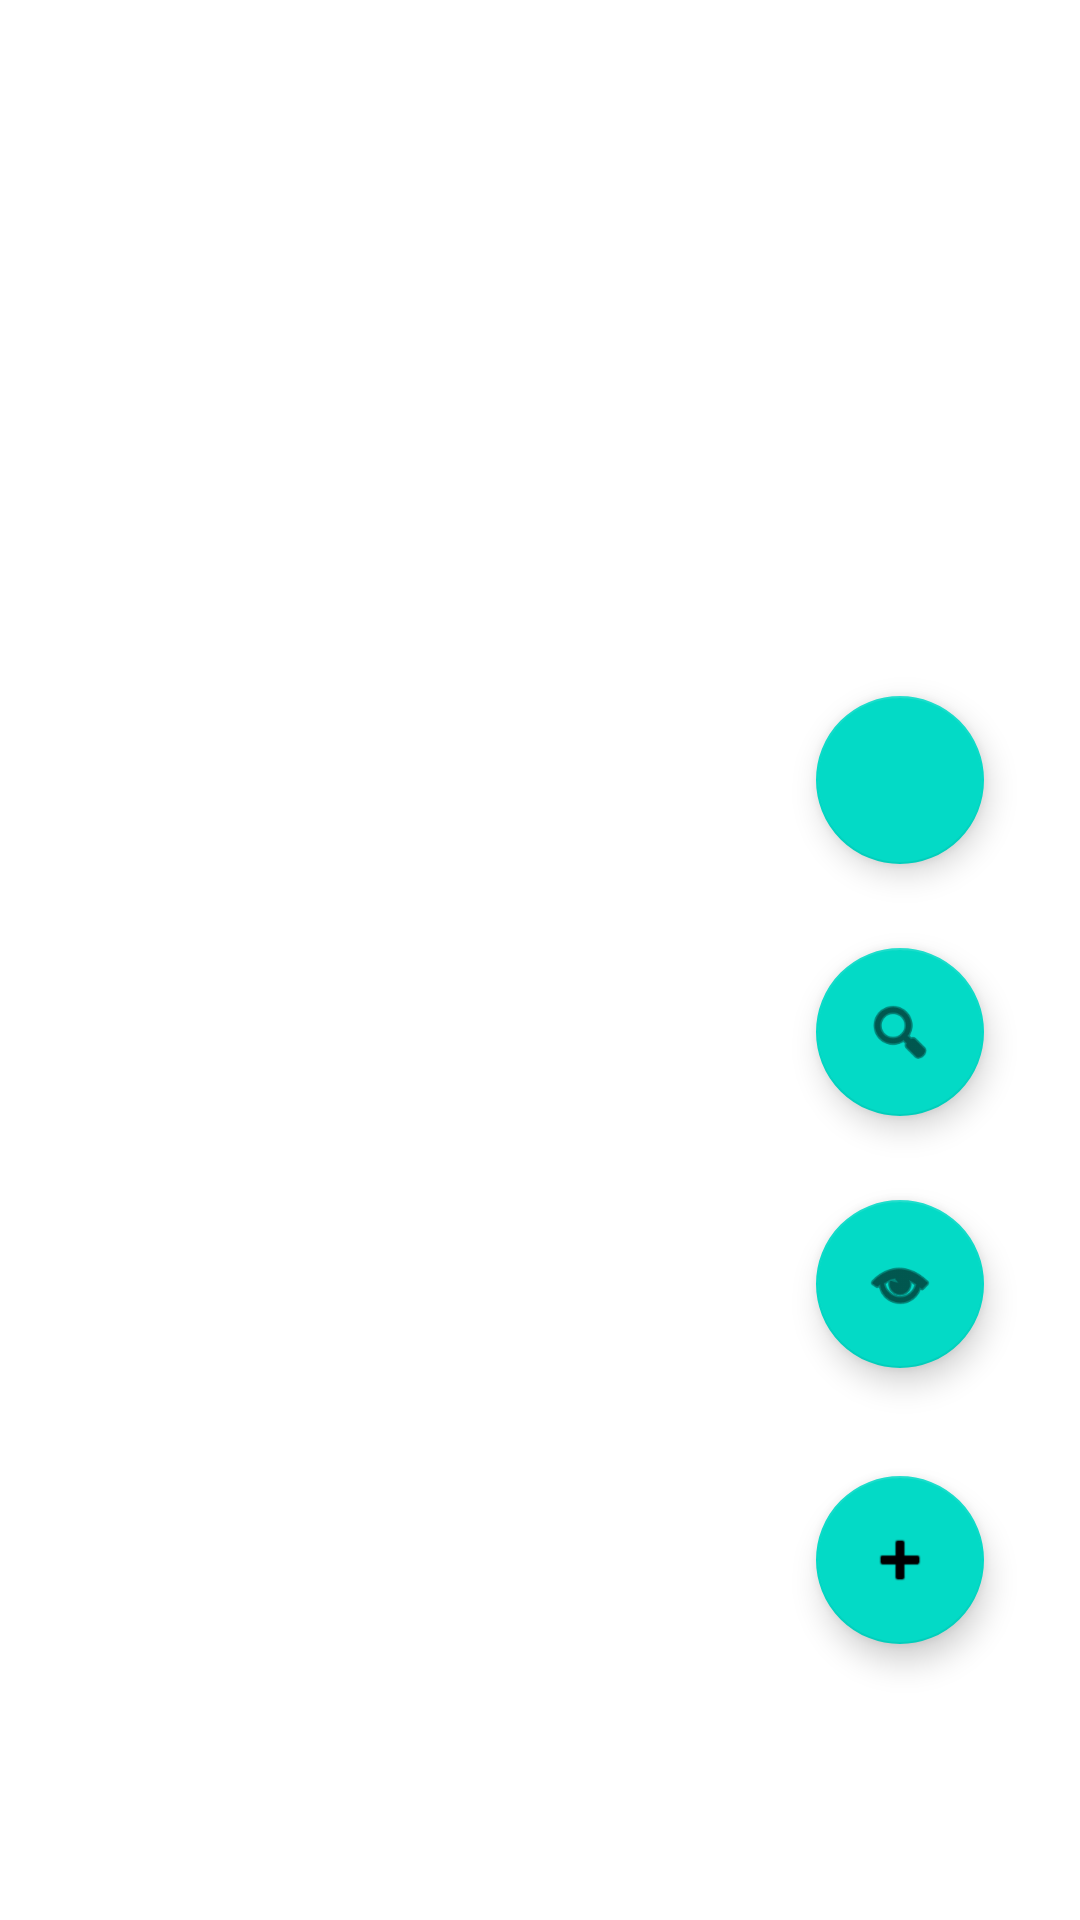

Icons on this 1080x1920 Android screen, each with its box as (x1, y1, x2, y2):
add: (816, 1476, 984, 1644)
search: (816, 948, 984, 1116)
view: (816, 1200, 984, 1368)
